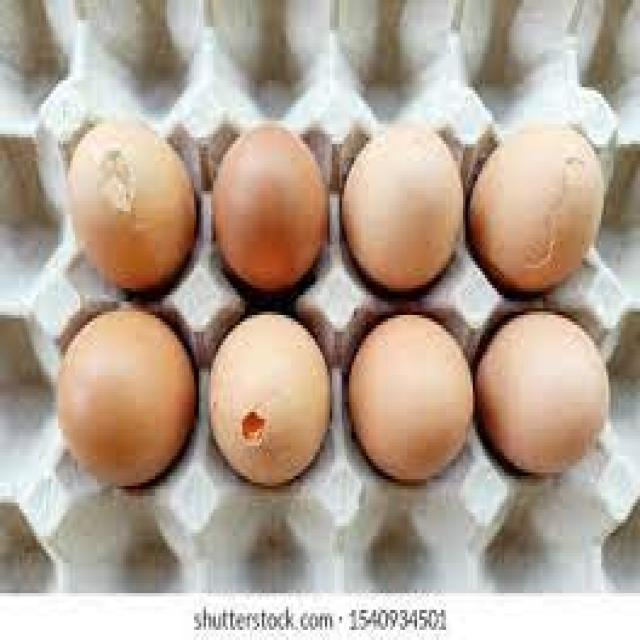biodegradable: (66, 118, 206, 290), (471, 125, 607, 298), (56, 310, 195, 478), (207, 309, 332, 482), (351, 310, 472, 484), (214, 121, 332, 292), (342, 121, 464, 280)
